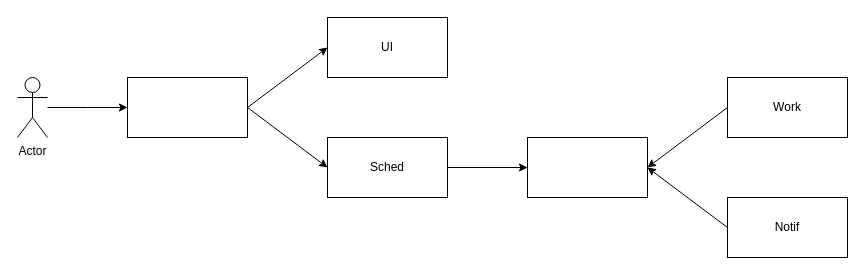
Image size: 865x275. Some labels were removed from this diagram. Here are the shapes that lost their labels. From the top down, the centre of each, then its label:
At pixel 187 107: "Gate".
At pixel 587 167: "Redis".
